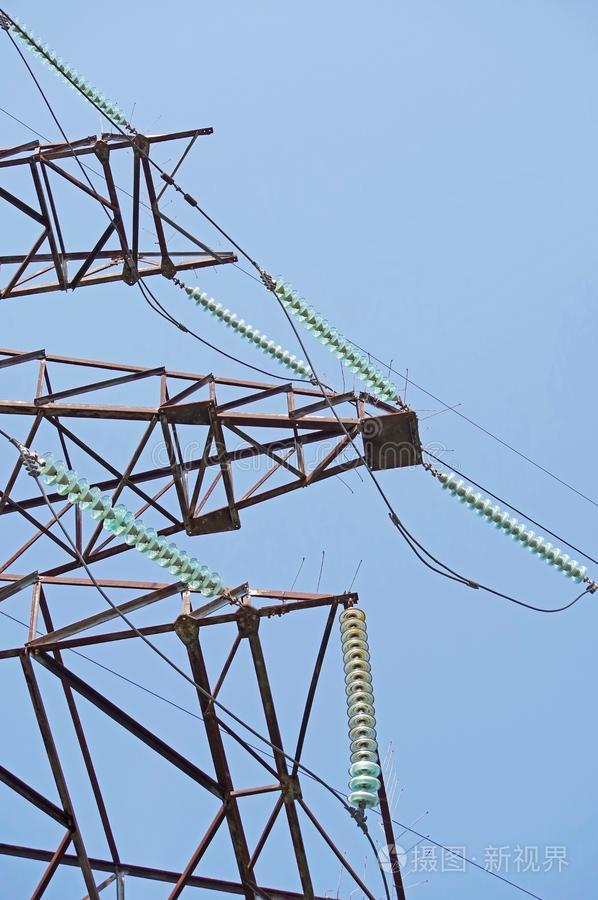insulator: (35, 454, 226, 599), (438, 471, 588, 584), (273, 283, 400, 402), (10, 21, 131, 129), (188, 286, 313, 376), (338, 607, 383, 804)
